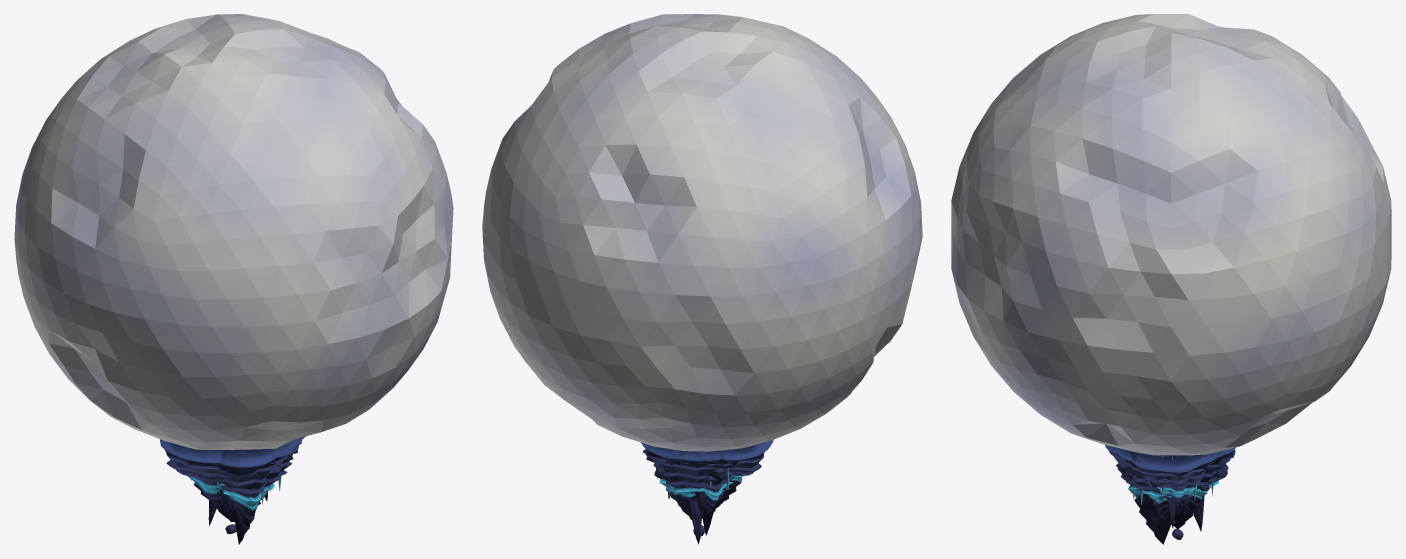
The model's file is isle-night-CwvGNa1z.glb.
3 renders of one model, left to right at view 1: azimuth 30°, elevation 25°; view 2: azimuth 150°, elevation 25°; view 3: azimuth 270°, elevation 25°, orthographic.
Visible parts, largest first — view 1: far, isle_2, isle_1; view 2: far, isle_2, isle_1, isle_0; view 3: far, isle_2, isle_1, isle_0.
Part boxes in pixels (box(x1,y1,x2,y2)): far: box(14, 14, 453, 449); isle_2: box(187, 449, 294, 544); isle_1: box(160, 436, 306, 513); far: box(482, 14, 922, 451); isle_2: box(645, 448, 735, 544); isle_1: box(640, 439, 773, 510); isle_0: box(642, 443, 723, 502); far: box(951, 14, 1391, 455); isle_2: box(1114, 451, 1228, 544); isle_1: box(1130, 451, 1216, 505); isle_0: box(1105, 445, 1235, 479).
Bounding box in the file's own units: 298 × 381 × 297.
